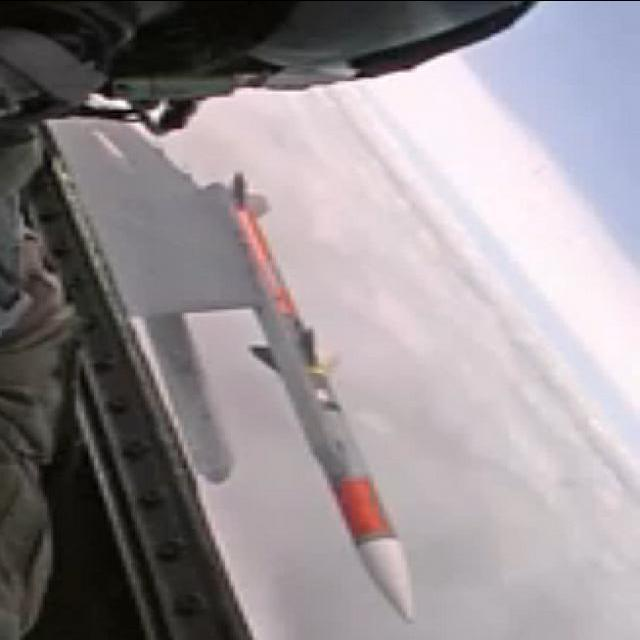missile: (205, 167, 418, 624), (134, 284, 240, 489)
